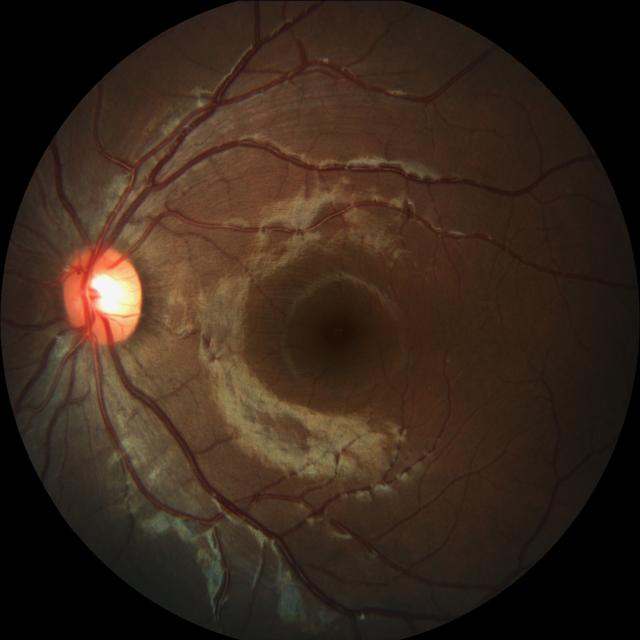OC: (82, 266, 136, 319)
OD: (61, 241, 146, 345)
